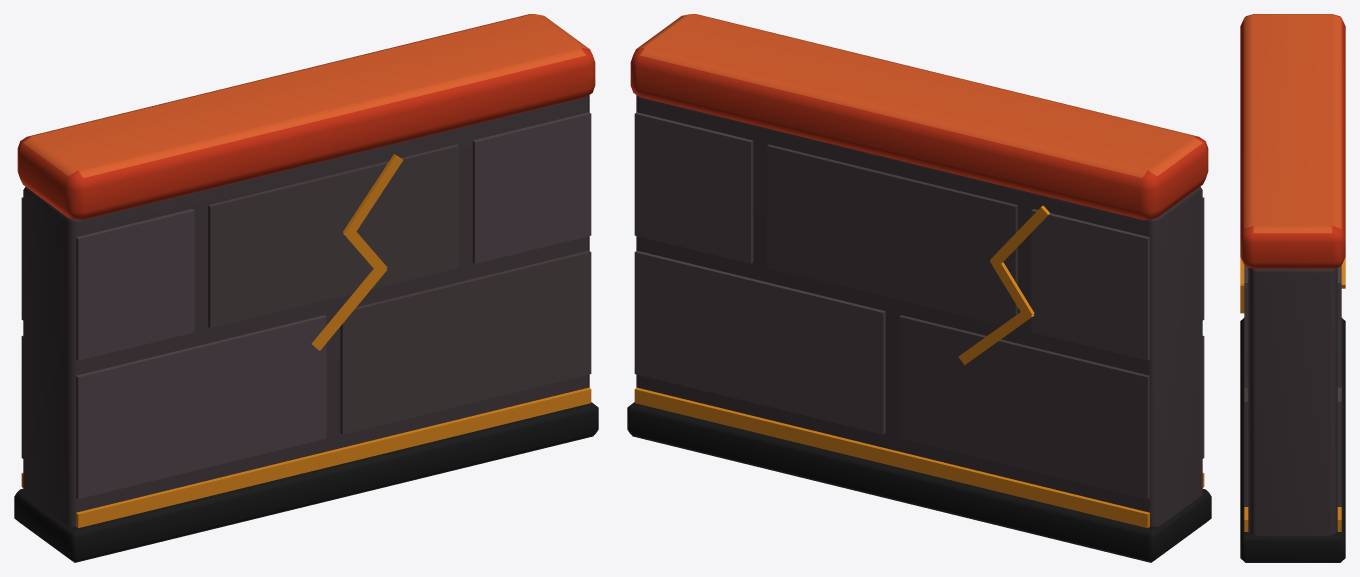
Rendered from candy-plotwall1.glb.
3 views of the same model, side by side, from view 1: azimuth 30°, elevation 25°; view 2: azimuth 150°, elevation 25°; view 3: azimuth 270°, elevation 25° (orthographic). The views are drawn at different scales.
Parts seen in each view (by area): view 1: candy-plotwall1; view 2: candy-plotwall1; view 3: candy-plotwall1.
Part boxes in pixels (x1,y1,x2,y2): candy-plotwall1: [14, 14, 598, 562]; candy-plotwall1: [627, 14, 1211, 562]; candy-plotwall1: [1240, 14, 1345, 562].
Bounding box in the file's own units: 2 × 1.4 × 0.4.
